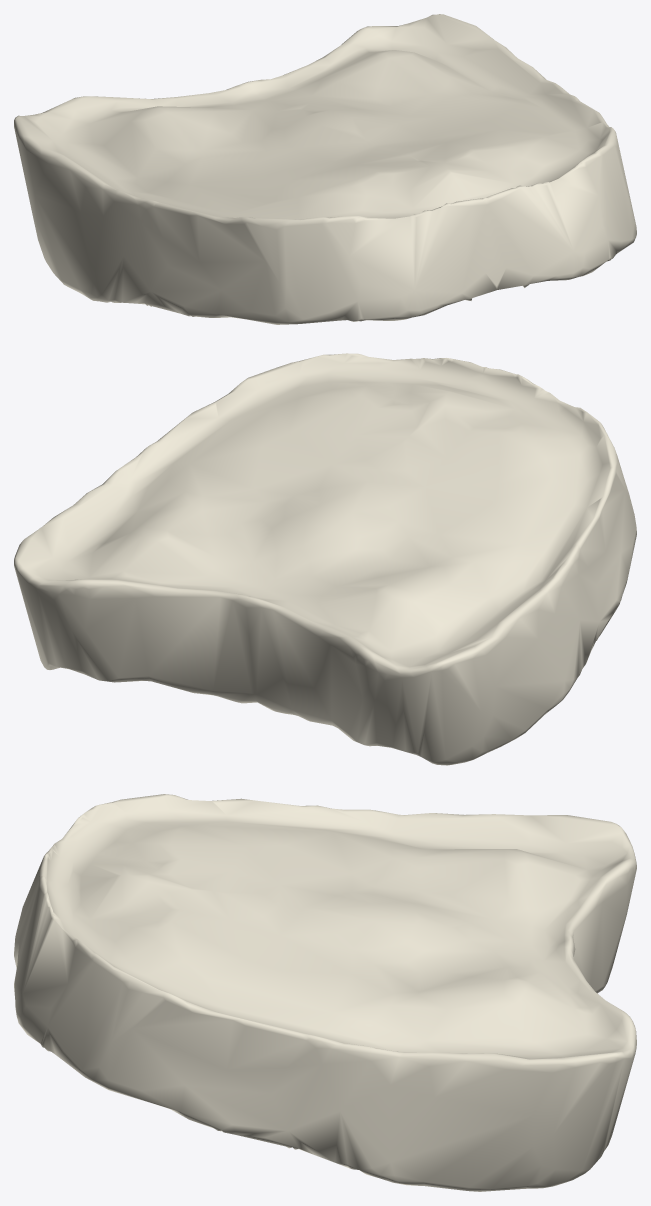
The picture shows the model from 3 angles, top to bottom: view 1: azimuth 30°, elevation 25°; view 2: azimuth 150°, elevation 25°; view 3: azimuth 270°, elevation 25°; orthographic projection. The views are drawn at different scales.
Visible parts, largest first — view 1: ZA_a870108e47e3c519; view 2: ZA_a870108e47e3c519; view 3: ZA_a870108e47e3c519.
Boxes of the visible parts, <box> form: ZA_a870108e47e3c519: <box>14,14,636,324</box>; ZA_a870108e47e3c519: <box>14,353,636,765</box>; ZA_a870108e47e3c519: <box>14,794,636,1191</box>.
Bounding box in the file's own units: 0.0358 × 0.013 × 0.0367.
